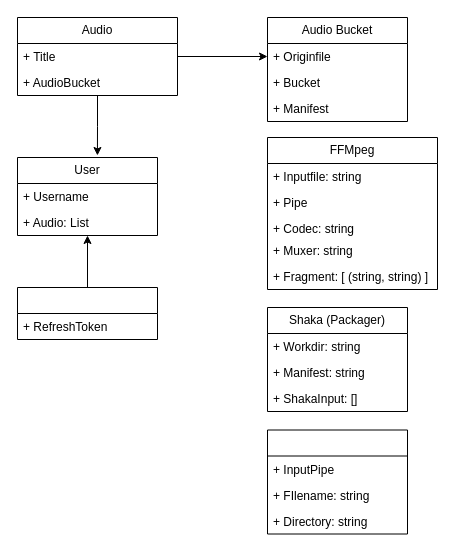
Some shapes in this 455 by 554 pixel diagram are drawn without their labels. The box of each missing label's shape, as (x1, y1, x2, y2) in pixels:
Identity: (16, 286, 158, 340)
ShakaInput: (266, 429, 408, 534)
